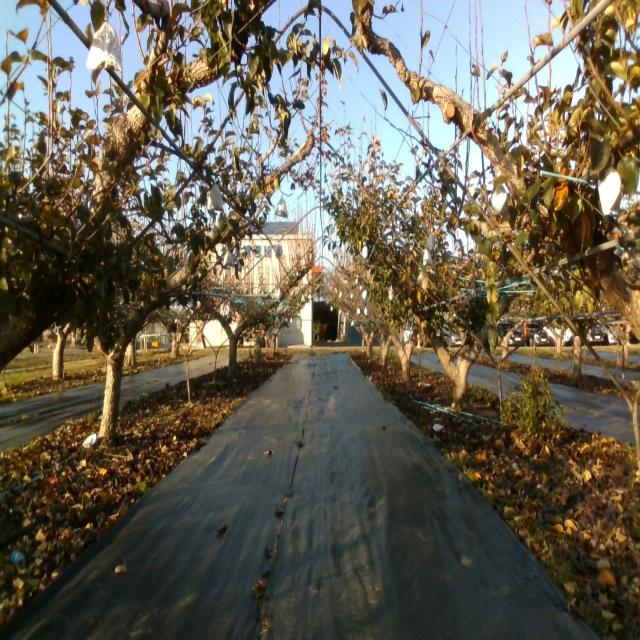pearbags: (87, 22, 123, 71), (596, 165, 622, 219), (491, 188, 508, 218), (207, 183, 224, 212), (275, 197, 288, 220)
